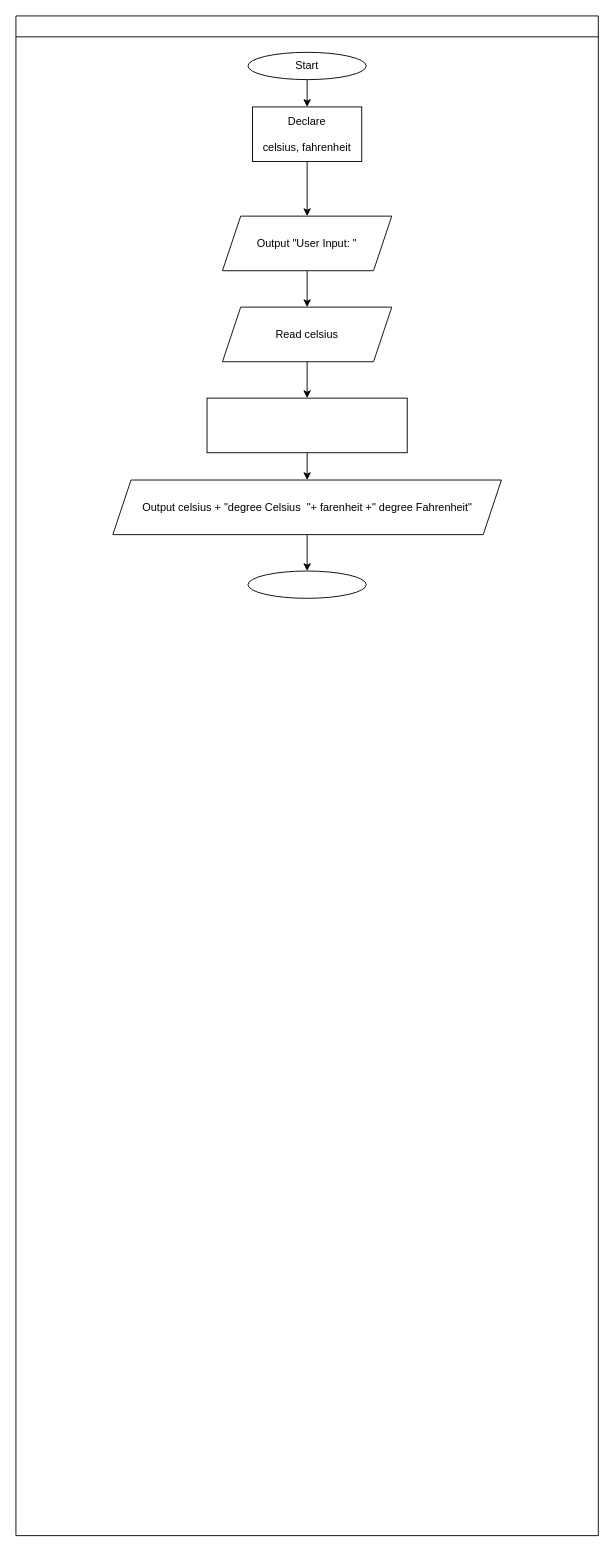
The diagram is 614 pixels wide and 1552 high, and some of its shapes have lost their labels. The shapes that lost their labels are listed below. From the top down, each one's centre as x and y in pixels, then its label:
At point 306,425: "fahrenheit = (celsius * 9/5) + 32;".
At point 306,584: "End".
